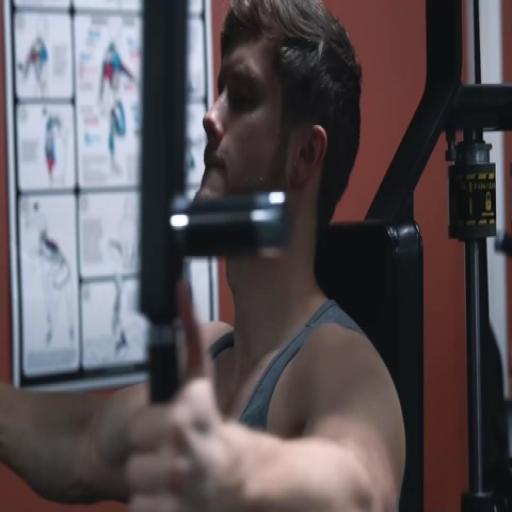exercise: (0, 0, 409, 511)
